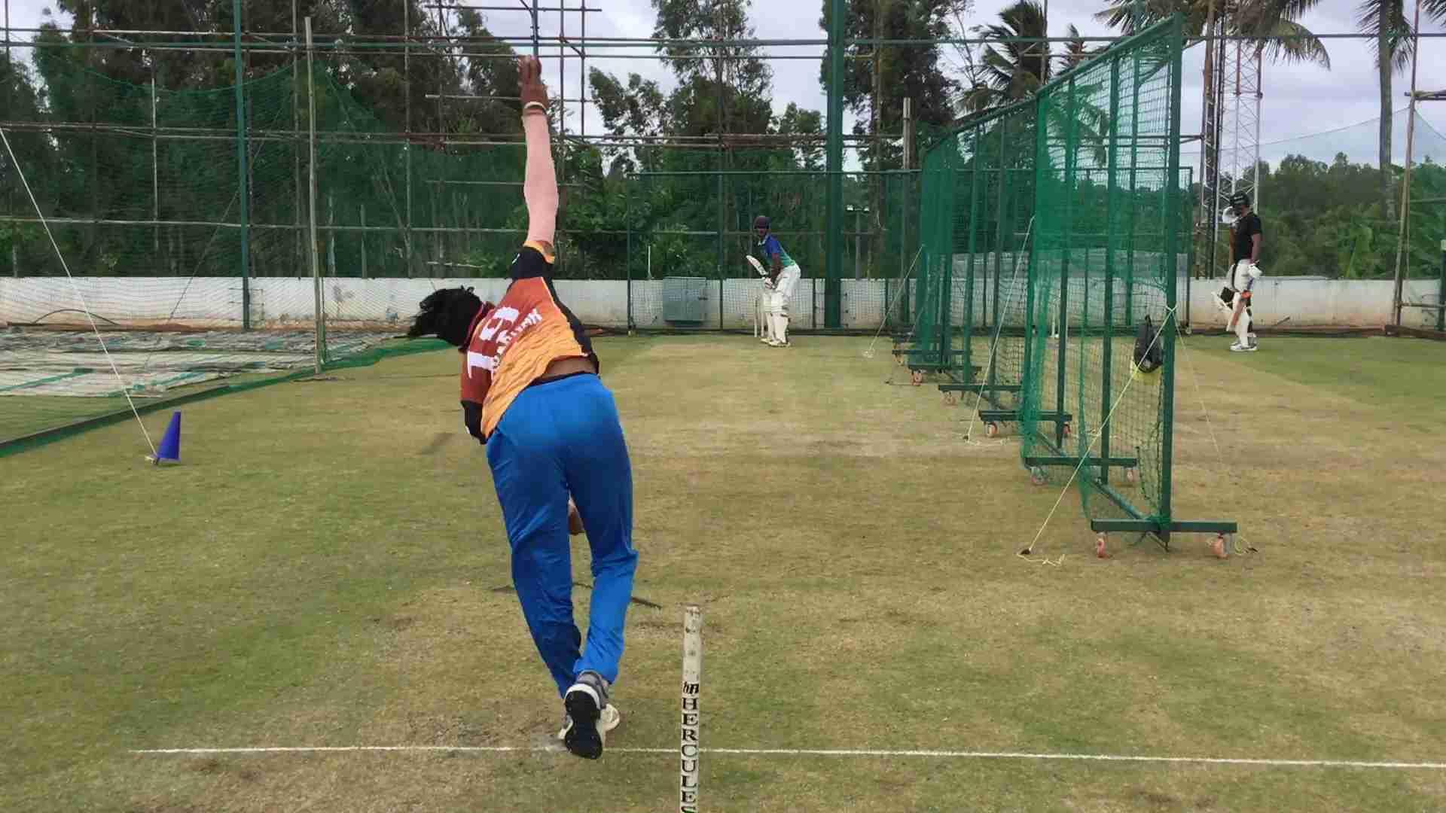batsman: (743, 208, 805, 349)
